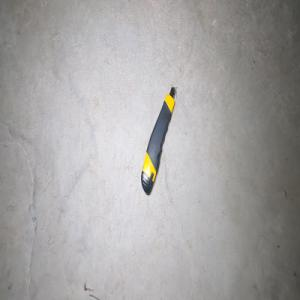Cutter: (140, 85, 176, 195)
